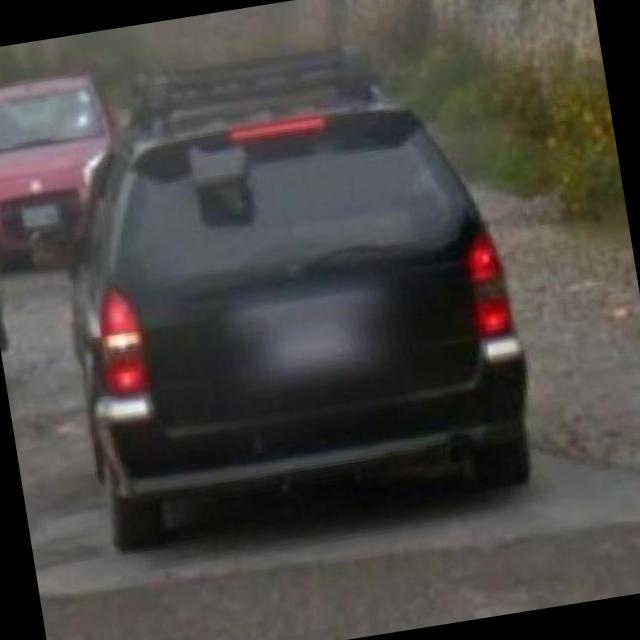car: (55, 59, 552, 564)
